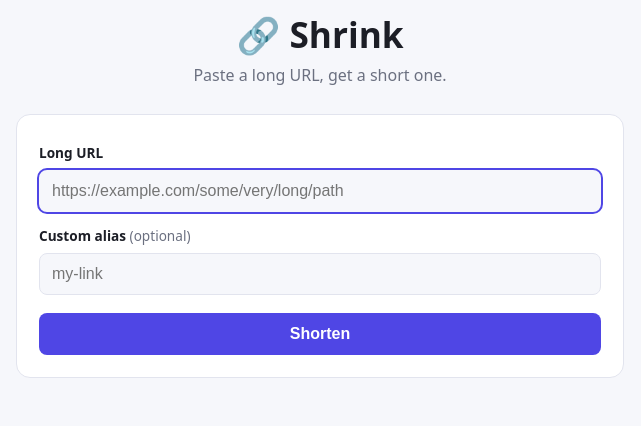
App › shows the server error message
In the field labelled "Long URL": (320, 191) [39, 170, 601, 212], type "https://example.com"
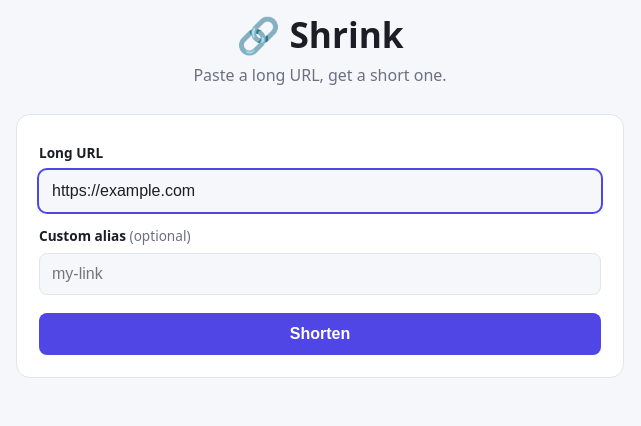
Click the button "Shorten": (320, 334) [39, 313, 601, 355]
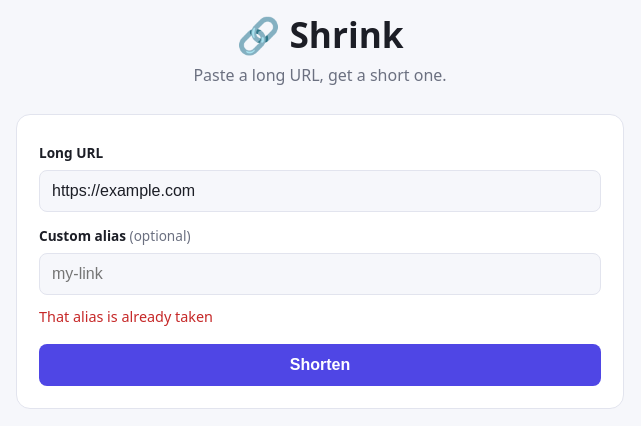
Expected: the message shows "already taken", [39, 307, 213, 326]
